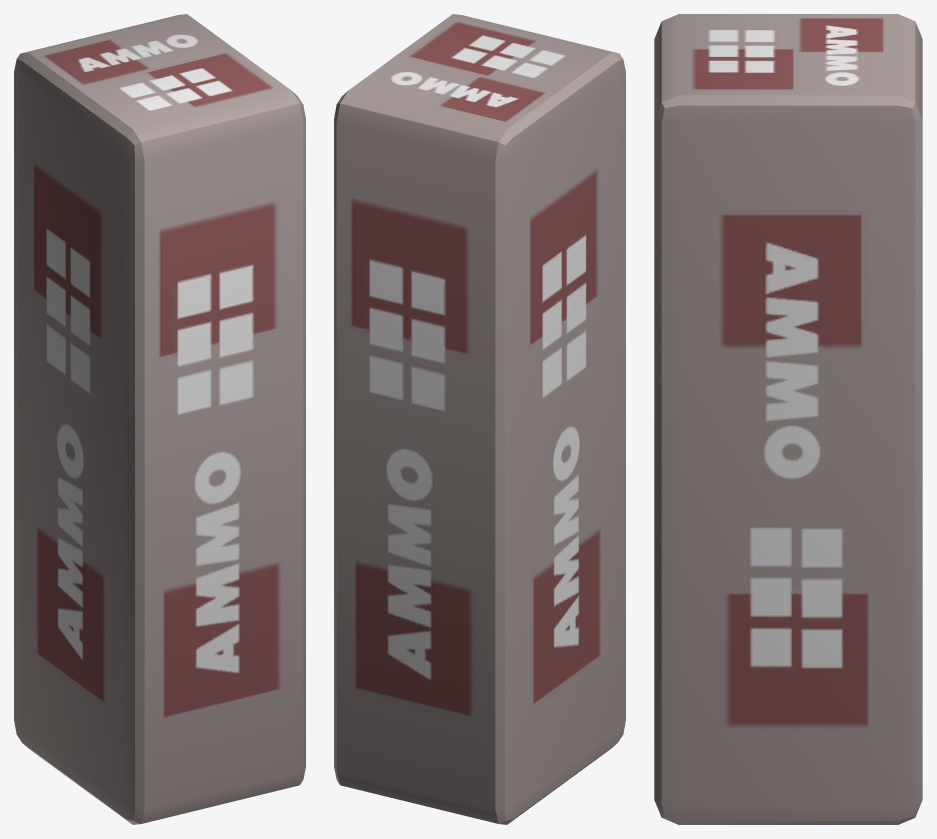
Rendered from ammo shotgun.glb.
3 renders of one model, left to right at view 1: azimuth 30°, elevation 25°; view 2: azimuth 150°, elevation 25°; view 3: azimuth 270°, elevation 25°, orthographic. The views are drawn at different scales.
Parts seen in each view (by area): view 1: Shotgun_Ammo; view 2: Shotgun_Ammo; view 3: Shotgun_Ammo.
Boxes of the visible parts, left/top/right/bottom form: Shotgun_Ammo: left=14, top=14, right=305, bottom=824; Shotgun_Ammo: left=334, top=14, right=625, bottom=824; Shotgun_Ammo: left=654, top=14, right=922, bottom=824.
Bounding box in the file's own units: 0.18 × 0.68 × 0.2264.
Materials: 1 (1 with a texture image).
